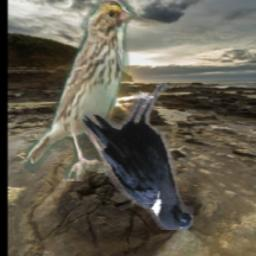Crow: (83, 81, 194, 230)
Sparrow: (24, 0, 135, 181)
